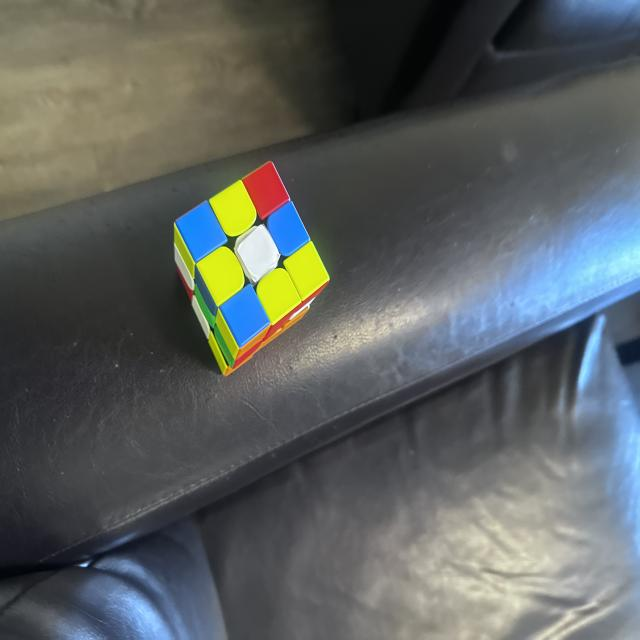sticker: (241, 159, 291, 221), (176, 201, 227, 261), (283, 240, 330, 304), (209, 178, 259, 238), (234, 223, 281, 285), (197, 246, 244, 307), (256, 267, 302, 327), (266, 200, 309, 258), (228, 289, 266, 340)
